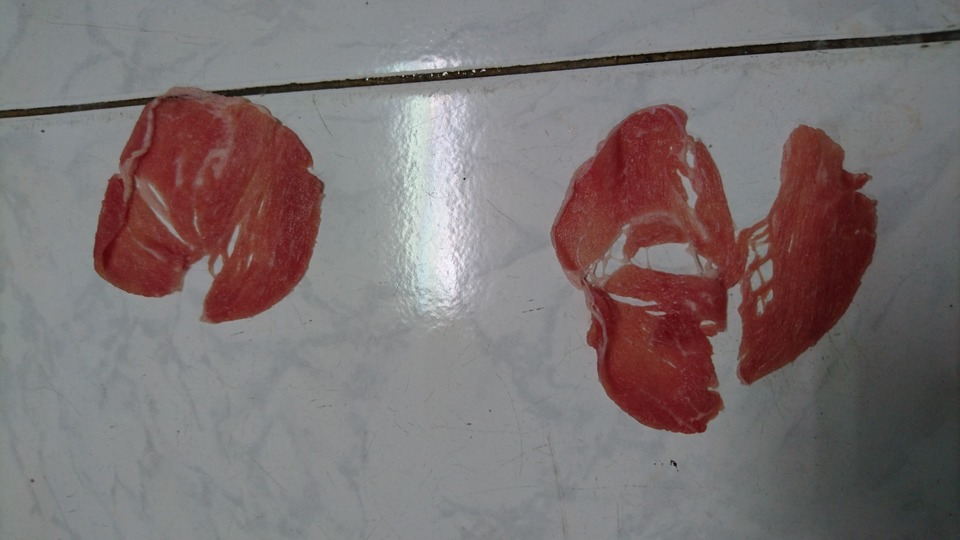restructured meat: (560, 87, 873, 430), (79, 49, 345, 330)
